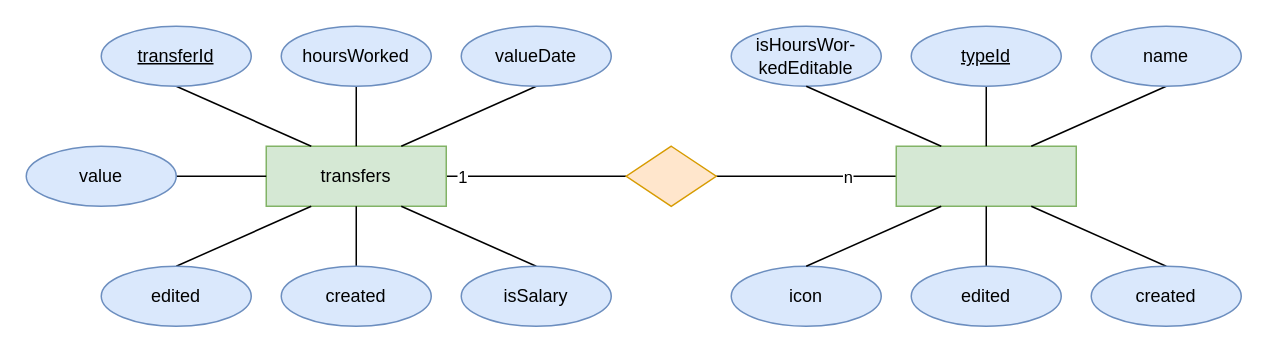
This 1268x353 diagram has some shape labels left out. Each missing label, with the centre of its shape:
"of" goes at (670,175).
"types" goes at (985,175).
